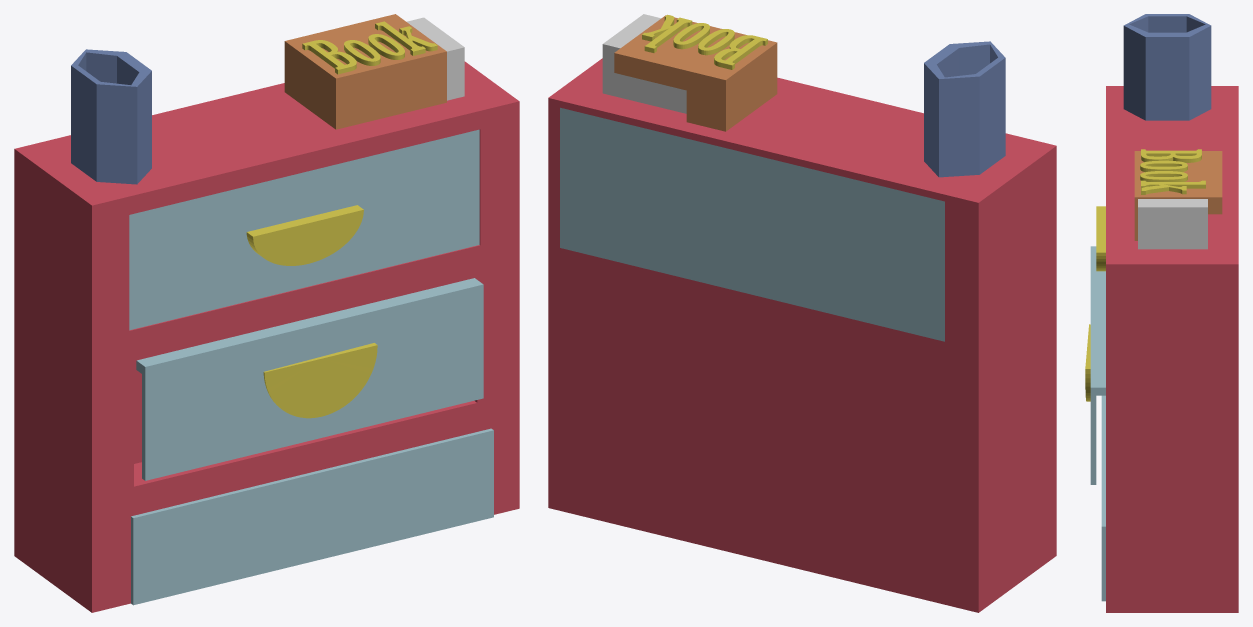
The model's file is Stunning Elzing.glb.
The picture shows the model from 3 angles, left to right: view 1: azimuth 30°, elevation 25°; view 2: azimuth 150°, elevation 25°; view 3: azimuth 270°, elevation 25°; orthographic projection. The views are drawn at different scales.
Visible parts, largest first — view 1: Mesh_Mesh_head_geo.001_lambert2SG.001; view 2: Mesh_Mesh_head_geo.001_lambert2SG.001; view 3: Mesh_Mesh_head_geo.001_lambert2SG.001.
Boxes of the visible parts, x1=… form: Mesh_Mesh_head_geo.001_lambert2SG.001: x1=14, y1=14, x2=519, y2=612; Mesh_Mesh_head_geo.001_lambert2SG.001: x1=548, y1=14, x2=1056, y2=612; Mesh_Mesh_head_geo.001_lambert2SG.001: x1=1085, y1=14, x2=1238, y2=612.
Bounding box in the file's own units: 77.07 × 87 × 28.
